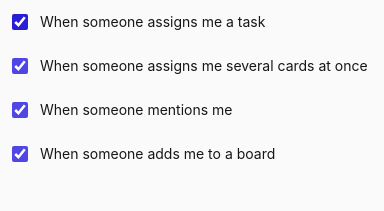
it: NotificationSettings › sends only the toggle that changed
The width and height of the screenshot is (384, 211).
What coordinates should you click on to do the following:
click the checkbox labelled "When someone assigns me a task"
I would click on:
 (20, 22)
Its box is [12, 14, 28, 30].
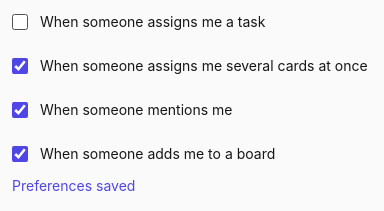
Expected: the text "Preferences saved" is shown, [12, 177, 135, 194]
